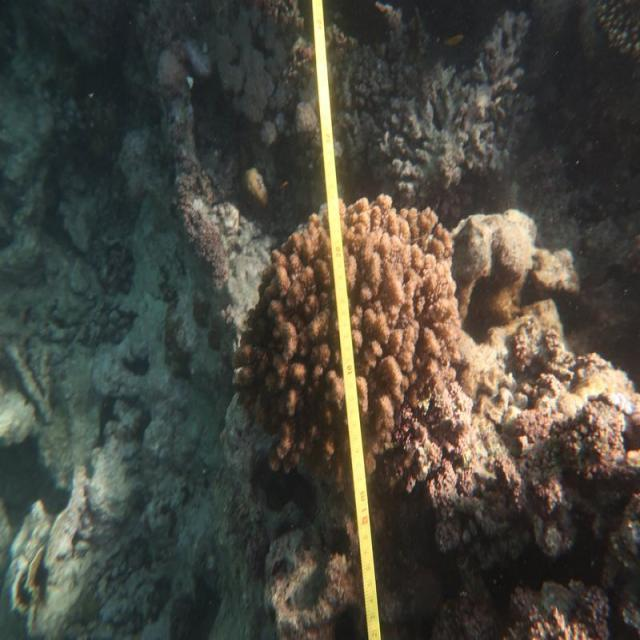Healthy Coral: (242, 200, 488, 475)
